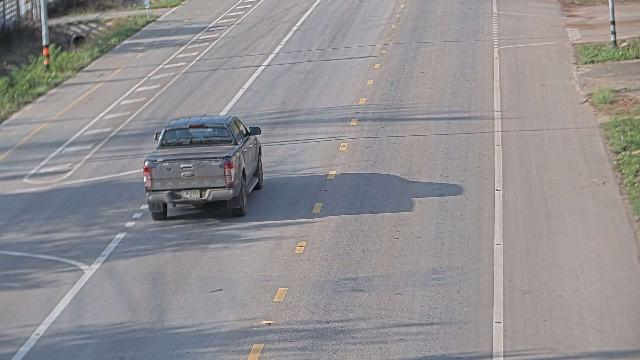pickup-truck: (142, 114, 264, 221)
